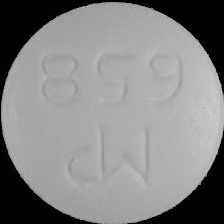54868-0049: (0, 0, 224, 224)
